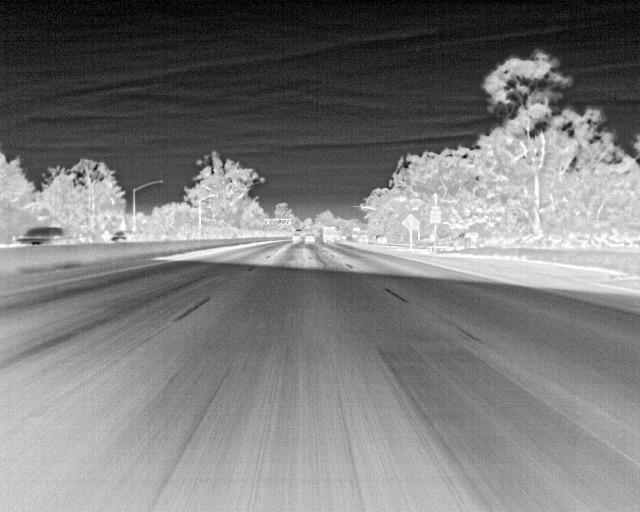car: (8, 223, 83, 248), (105, 224, 138, 242), (370, 231, 389, 247), (285, 230, 302, 247), (355, 232, 369, 248), (303, 230, 317, 244)
